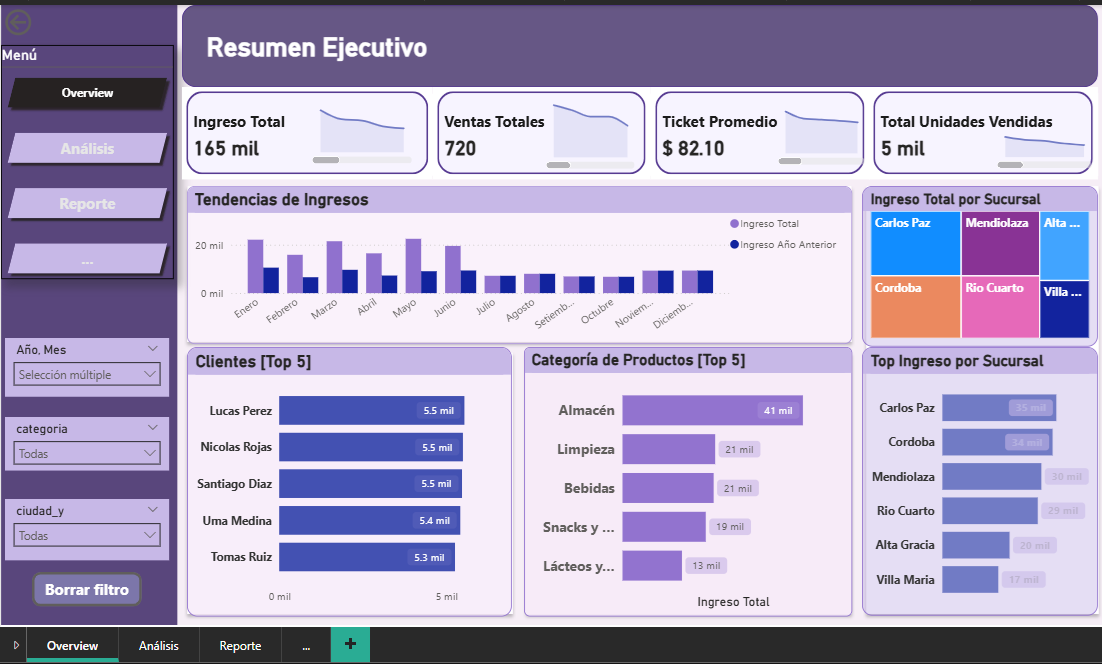

The page's visual inventory and layout, read from the dashboard file:
{"tool":"powerbi","page":{"name":"Overview","canvas":[1280,720],"ordinal":0},"visuals":[{"type":"pageNavigator","title":"  Menú","box":[0,46.3,200.5,271.2],"z":0},{"type":"slicer","fields":{"Values":["DimCalendario.Año","DimCalendario.Mes"]},"box":[5.1,386,190.2,68.1],"z":1000},{"type":"slicer","fields":{"Values":["DimProducto.categoria"]},"box":[5.1,477.2,190.2,61.7],"z":2000},{"type":"slicer","fields":{"Values":["DimSucursal.ciudad_y"]},"box":[5.1,572.3,190.2,70.7],"z":3000},{"type":"actionButton","box":[36,656.7,127.2,39.8],"z":4000},{"type":"shape","box":[209.5,0,1060.2,95.1],"z":5000},{"type":"cardVisual","fields":{"Data":["Medidas.Ingreso Total"]},"box":[209.6,94.9,290.4,106.6],"z":6000},{"type":"lineChart","fields":{"Y":["Medidas.Ingreso Total"],"Category":["DimCalendario.MesAño"]},"box":[354.8,104.2,125.3,84.3],"z":7000},{"type":"cardVisual","fields":{"Data":["Medidas.Total Órdenes"]},"box":[500.1,94.9,251.8,106.6],"z":8000},{"type":"cardVisual","fields":{"Data":["Medidas.Ticket Promedio"]},"box":[751.8,94.9,253,106.6],"z":9000},{"type":"cardVisual","fields":{"Data":["Medidas.Total Unidades Vendidas"]},"box":[1004.8,94.9,264.7,106.6],"z":10000},{"type":"lineChart","fields":{"Y":["Medidas.Ventas Totales"],"Category":["DimCalendario.MesAño"]},"box":[626.5,101.9,112.4,92.5],"z":11000},{"type":"lineChart","fields":{"Y":["Medidas.Ticket Promedio"],"Category":["DimCalendario.MesAño"]},"box":[894.7,97.2,110.1,92.5],"z":12000},{"type":"lineChart","fields":{"Y":["Medidas.Total Unidades Vendidas"],"Category":["DimCalendario.MesAño"]},"box":[1148.8,131.2,119.5,63.2],"z":13000},{"type":"lineClusteredColumnComboChart","title":"Tendencias de Ingresos","fields":{"Y":["Medidas.Ingreso Total","Medidas.Ingreso Año Anterior"],"Category":["DimCalendario.Mes"]},"box":[215.3,209.5,769.8,183],"z":14000},{"type":"barChart","title":"Clientes [Top 5]","fields":{"Category":["DimCliente.nombre_cliente_x"],"Y":["Medidas.Ingreso Total"]},"box":[215.2,395.5,375.9,311.6],"z":15000},{"type":"actionButton","box":[0,0,100,40],"z":16000},{"type":"barChart","title":"Categoría de Productos [Top 5]","fields":{"Category":["DimProducto.categoria"],"Y":["Medidas.Ingreso Total"]},"box":[605.1,395.5,380.1,311.6],"z":17000},{"type":"treemap","title":"Ingreso Total por Sucursal","fields":{"Values":["Medidas.Ingreso Total"],"Group":["DimSucursal.ciudad_y"]},"box":[996.7,209.5,273.2,186.4],"z":18000},{"type":"barChart","title":"Top Ingreso por Sucursal","fields":{"Y":["Medidas.Ingreso Total"],"Category":["DimSucursal.ciudad_y"]},"box":[996.7,395.9,273.2,311.4],"z":19000}]}

Visuals, with their boxes on the page's 1280x720 design canvas (x1, y1, x2, y2). These are canvas units, not pixel positions in the 1102x664 screenshot, which may show the page scaled, cropped or inside an application window:
"  Menú" pageNavigator: <box>0,46,200,318</box>
slicer - DimCalendario.Año x DimCalendario.Mes: <box>5,386,195,454</box>
slicer - DimProducto.categoria: <box>5,477,195,539</box>
slicer - DimSucursal.ciudad_y: <box>5,572,195,643</box>
actionButton: <box>36,657,163,696</box>
shape: <box>210,0,1270,95</box>
cardVisual - Medidas.Ingreso Total: <box>210,95,500,202</box>
lineChart - Medidas.Ingreso Total x DimCalendario.MesAño: <box>355,104,480,188</box>
cardVisual - Medidas.Total Órdenes: <box>500,95,752,202</box>
cardVisual - Medidas.Ticket Promedio: <box>752,95,1005,202</box>
cardVisual - Medidas.Total Unidades Vendidas: <box>1005,95,1270,202</box>
lineChart - Medidas.Ventas Totales x DimCalendario.MesAño: <box>626,102,739,194</box>
lineChart - Medidas.Ticket Promedio x DimCalendario.MesAño: <box>895,97,1005,190</box>
lineChart - Medidas.Total Unidades Vendidas x DimCalendario.MesAño: <box>1149,131,1268,194</box>
"Tendencias de Ingresos" lineClusteredColumnComboChart: <box>215,210,985,392</box>
"Clientes [Top 5]" barChart: <box>215,396,591,707</box>
actionButton: <box>0,0,100,40</box>
"Categoría de Productos [Top 5]" barChart: <box>605,396,985,707</box>
"Ingreso Total por Sucursal" treemap: <box>997,210,1270,396</box>
"Top Ingreso por Sucursal" barChart: <box>997,396,1270,707</box>
